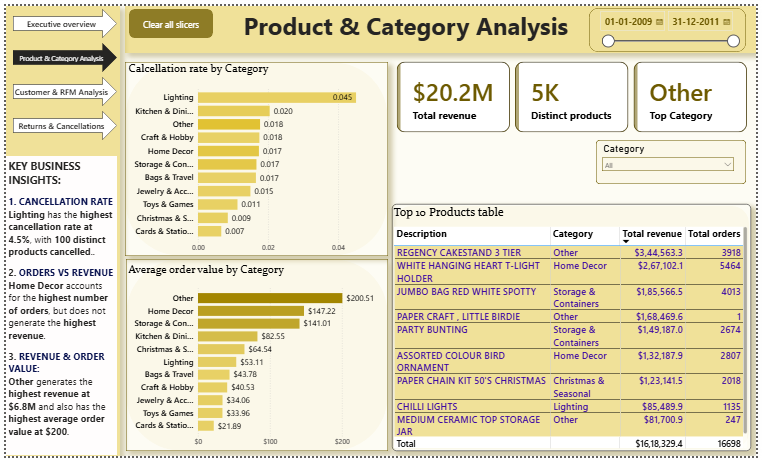

What the dashboard file says about the page in this screenshot:
{"tool":"powerbi","page":{"name":"Product & Category Analysis","canvas":[1500,900],"ordinal":1},"visuals":[{"type":"shape","box":[238,0,1562,94],"z":0},{"type":"cardVisual","fields":{"Data":["1 measures table.Total revenue","1 measures table.Distinct products","1 measures table.Top Category"]},"box":[764,94,736,176],"z":1000},{"type":"shape","box":[772,396,718,494],"z":2000},{"type":"shape","box":[238,112,526,388],"z":3000},{"type":"shape","box":[240,506,524,384],"z":4000},{"type":"tableEx","title":"Top 10 Products table","fields":{"Values":["Dim_product.Description","Dim_product.Category","1 measures table.Total revenue","1 measures table.Total orders"]},"box":[770,396,718,494],"z":5000},{"type":"clusteredBarChart","fields":{"Category":["Dim_product.Category"],"Y":["1 measures table.Average order value"]},"box":[240,512,524,378],"z":6000},{"type":"actionButton","box":[246,6,168,58],"z":7000},{"type":"clusteredBarChart","fields":{"Category":["Dim_product.Category"],"Y":["1 measures table.Calcellation rate"]},"box":[240,110,524,392],"z":8000},{"type":"textbox","box":[444,0,698,94],"z":9000},{"type":"shape","box":[0,0,228,900],"z":10000},{"type":"pageNavigator","box":[14,6,208,262],"z":11000},{"type":"shape","box":[1166,4,314,88],"z":12000},{"type":"slicer","fields":{"Values":["Calendar.Date"]},"box":[1176,0,300,92],"z":13000},{"type":"shape","box":[1180,268,300,88],"z":14000},{"type":"slicer","fields":{"Values":["Dim_product.Category"]},"box":[1182,268,284,116],"z":15000},{"type":"textbox","box":[0,300,222,598],"z":16000}]}

Visuals, with their boxes in screenshot pixels (x1, y1, x2, y2), scaled from the page's 1500x900 canvas onto the 762x460 screenshot:
shape: (x1=121, y1=0, x2=761, y2=48)
cardVisual - 1 measures table.Total revenue x 1 measures table.Distinct products: (x1=388, y1=48, x2=761, y2=138)
shape: (x1=392, y1=202, x2=757, y2=455)
shape: (x1=121, y1=57, x2=388, y2=256)
shape: (x1=122, y1=259, x2=388, y2=455)
"Top 10 Products table" tableEx: (x1=391, y1=202, x2=756, y2=455)
clusteredBarChart - Dim_product.Category x 1 measures table.Average order value: (x1=122, y1=262, x2=388, y2=455)
actionButton: (x1=125, y1=3, x2=210, y2=33)
clusteredBarChart - Dim_product.Category x 1 measures table.Calcellation rate: (x1=122, y1=56, x2=388, y2=257)
textbox: (x1=226, y1=0, x2=580, y2=48)
shape: (x1=0, y1=0, x2=116, y2=459)
pageNavigator: (x1=7, y1=3, x2=113, y2=137)
shape: (x1=592, y1=2, x2=752, y2=47)
slicer - Calendar.Date: (x1=597, y1=0, x2=750, y2=47)
shape: (x1=599, y1=137, x2=752, y2=182)
slicer - Dim_product.Category: (x1=600, y1=137, x2=745, y2=196)
textbox: (x1=0, y1=153, x2=113, y2=459)
